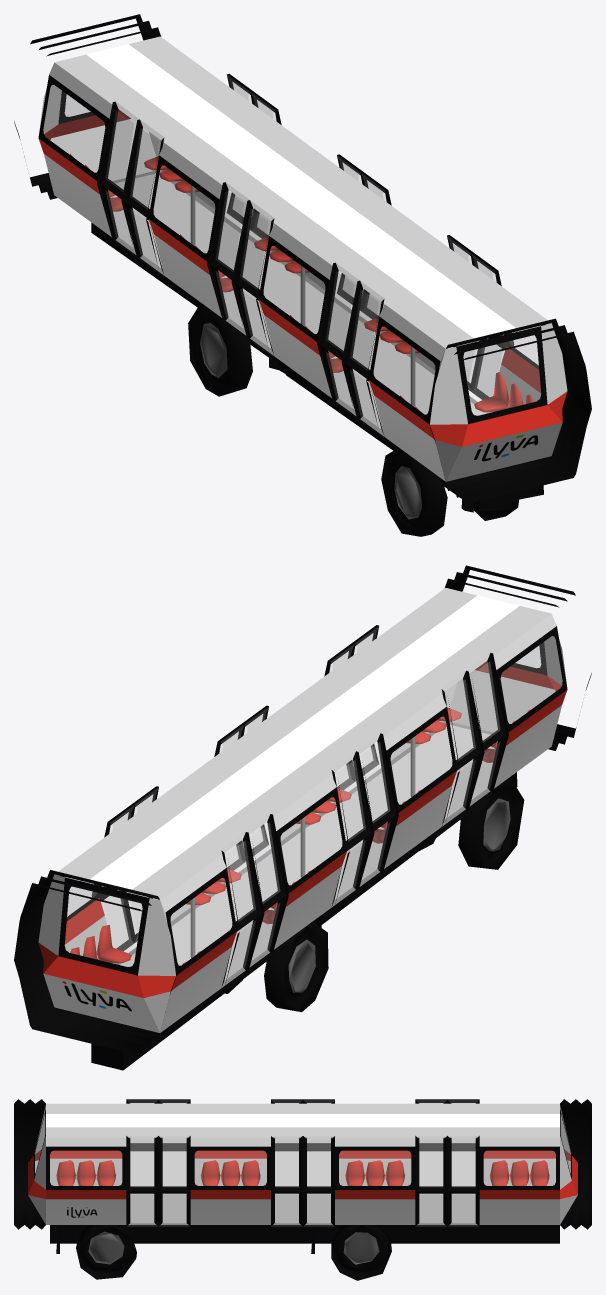
Rendered from subway.glb.
3 views of the same model, one above another, from view 1: azimuth 30°, elevation 25°; view 2: azimuth 150°, elevation 25°; view 3: azimuth 270°, elevation 25° (orthographic). The views are drawn at different scales.
Visible parts, largest first — view 1: FloorRoof, Walls, BackWall, Wheels, DoorRR, DoorRL, BackSeparation, FrontWall, Chairs, DoorLL, DoorLR, FrontSeparation (+1 smaller); view 2: FloorRoof, Walls, FrontWall, DoorRL, Wheels, DoorRR, FrontSeparation, BackWall, Chairs, DoorLR, DoorLL, BackSeparation (+1 smaller); view 3: Walls, FloorRoof, Wheels, DoorLL, DoorLR, Chairs, DoorRL, DoorRR, BackSeparation, FrontSeparation, BackWall, FrontWall.
Part boxes in pixels (left/top/right/bottom): FloorRoof: left=55, top=36, right=547, bottom=436; Walls: left=38, top=62, right=551, bottom=481; BackWall: left=430, top=323, right=567, bottom=481; Wheels: left=91, top=222, right=543, bottom=536; DoorRR: left=121, top=119, right=384, bottom=437; DoorRL: left=97, top=101, right=358, bottom=419; BackSeparation: left=430, top=318, right=591, bottom=503; FrontWall: left=38, top=85, right=163, bottom=180; Chairs: left=70, top=154, right=534, bottom=412; DoorLL: left=251, top=91, right=514, bottom=399; DoorLR: left=226, top=73, right=483, bottom=391; FrontSeparation: left=14, top=14, right=161, bottom=199; FloorRoof: left=58, top=588, right=551, bottom=987; Walls: left=54, top=614, right=567, bottom=1032; FrontWall: left=38, top=874, right=175, bottom=1032; DoorRL: left=221, top=670, right=484, bottom=988; Wheels: left=91, top=772, right=524, bottom=1070; DoorRR: left=246, top=653, right=508, bottom=970; FrontSeparation: left=14, top=870, right=175, bottom=1055; BackWall: left=441, top=636, right=566, bottom=746; Chairs: left=70, top=707, right=531, bottom=964; DoorLR: left=91, top=643, right=354, bottom=951; DoorLL: left=122, top=625, right=378, bottom=942; BackSeparation: left=445, top=565, right=591, bottom=750; Walls: left=46, top=1137, right=559, bottom=1224; FloorRoof: left=46, top=1103, right=559, bottom=1224; Wheels: left=50, top=1225, right=559, bottom=1280; DoorLL: left=126, top=1136, right=447, bottom=1227; DoorLR: left=158, top=1136, right=479, bottom=1227; Chairs: left=56, top=1160, right=549, bottom=1185; DoorRL: left=158, top=1099, right=479, bottom=1185; DoorRR: left=126, top=1099, right=447, bottom=1185; BackSeparation: left=14, top=1099, right=45, bottom=1229; FrontSeparation: left=560, top=1099, right=591, bottom=1229; BackWall: left=28, top=1105, right=45, bottom=1224; FrontWall: left=560, top=1105, right=577, bottom=1224.
Bounding box in the file's own units: 2.8 × 4.12 × 14.4.
Materials: 11 (1 with a texture image).
